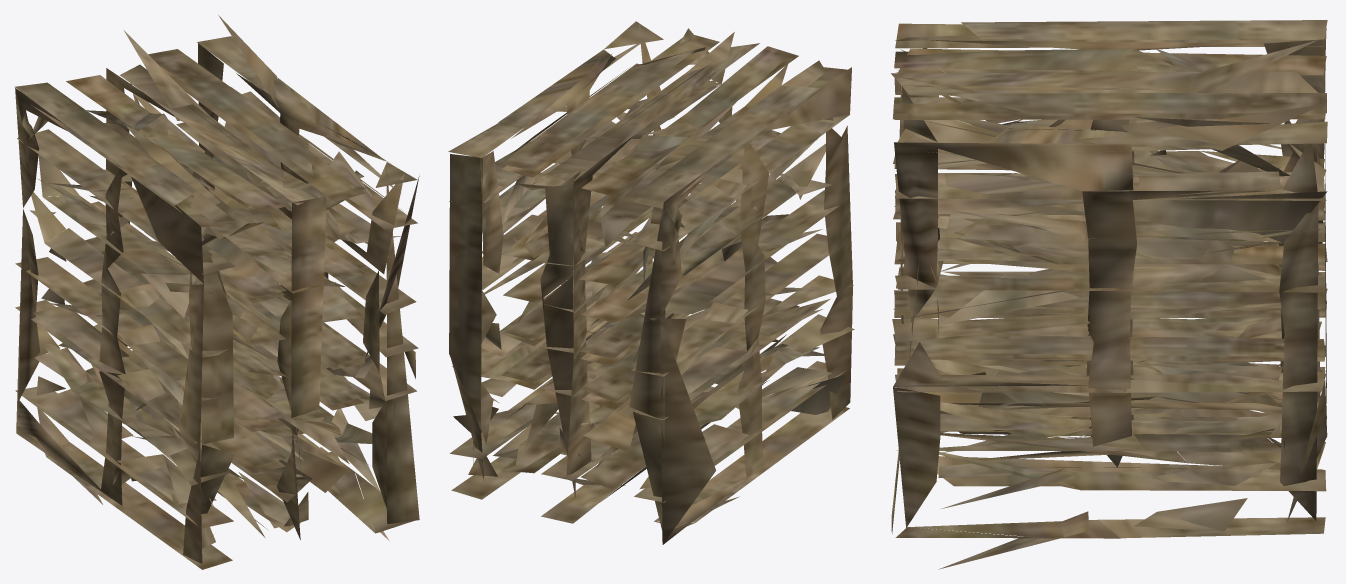
The model's file is hafen_paletten.glb.
3 renders of one model, left to right at view 1: azimuth 30°, elevation 25°; view 2: azimuth 150°, elevation 25°; view 3: azimuth 270°, elevation 25°, orthographic. The views are drawn at different scales.
Visible parts, largest first — view 1: Prop; view 2: Prop; view 3: Prop.
Part boxes in pixels (<box>): Prop: <box>14,15,419,569</box>; Prop: <box>448,21,854,544</box>; Prop: <box>891,20,1327,569</box>.
Bounding box in the file's own units: 0.755 × 1.19 × 1.02.
Materials: 1 (1 with a texture image).
